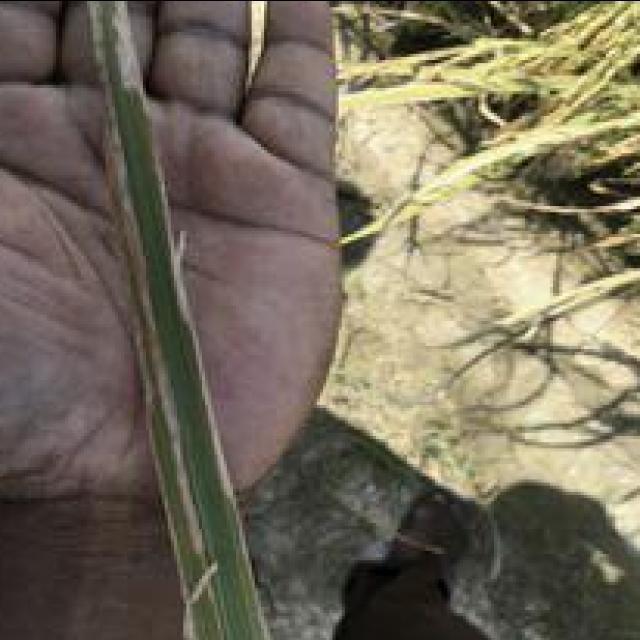Bacterial_Leaf_Blight: (68, 0, 276, 637)
